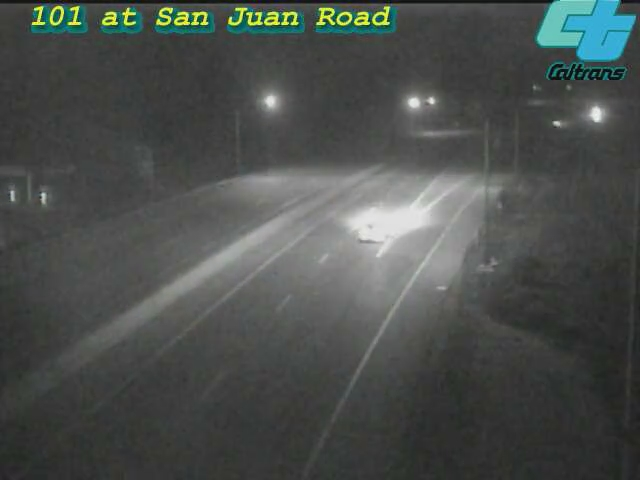vehicle: (334, 187, 414, 267), (534, 99, 584, 149), (572, 88, 622, 138)
